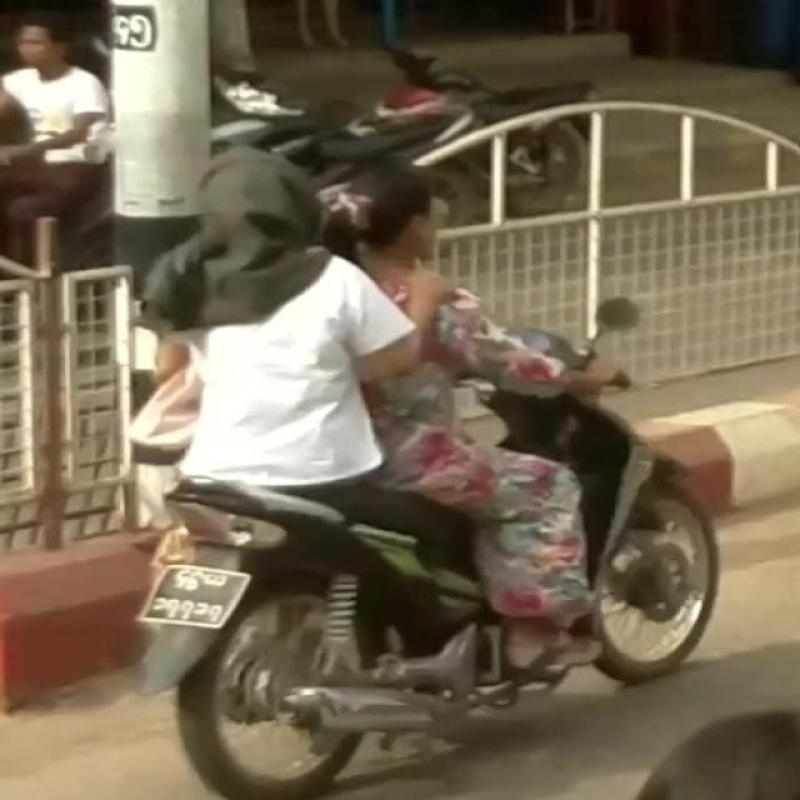nohelmet: (190, 125, 328, 280), (352, 125, 451, 288)
